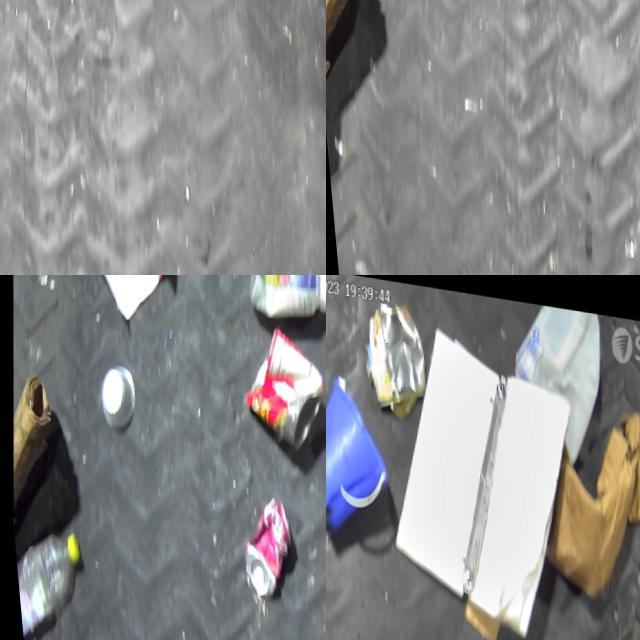can: (231, 316, 326, 450), (360, 287, 435, 411), (229, 488, 294, 599)
milk_jug: (500, 292, 612, 463)
plastic_bottle: (7, 519, 84, 640)
